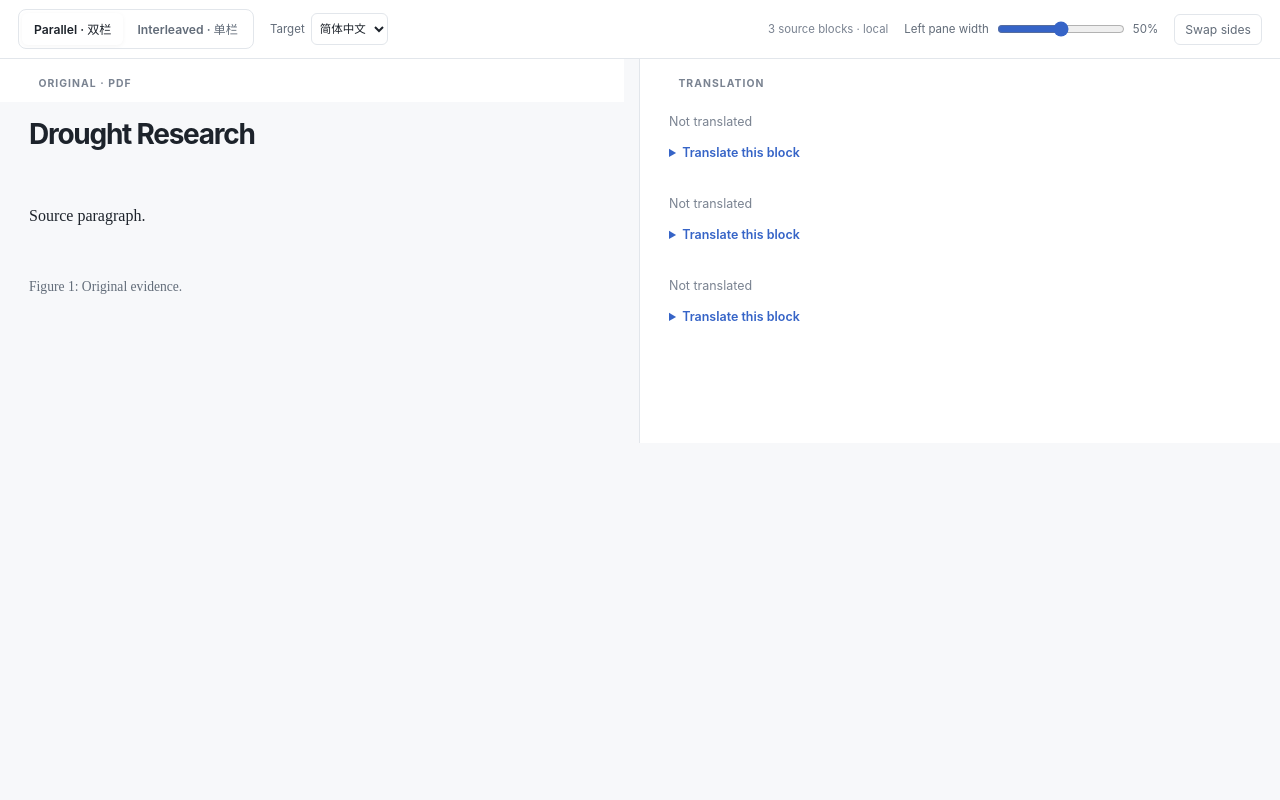
Test: reports translation failure and cancellation without inventing translated output
This screenshot has width=1280, height=800.
Click the 1st heading "Translate this block": click(741, 152) left=682, top=145, right=800, bottom=160
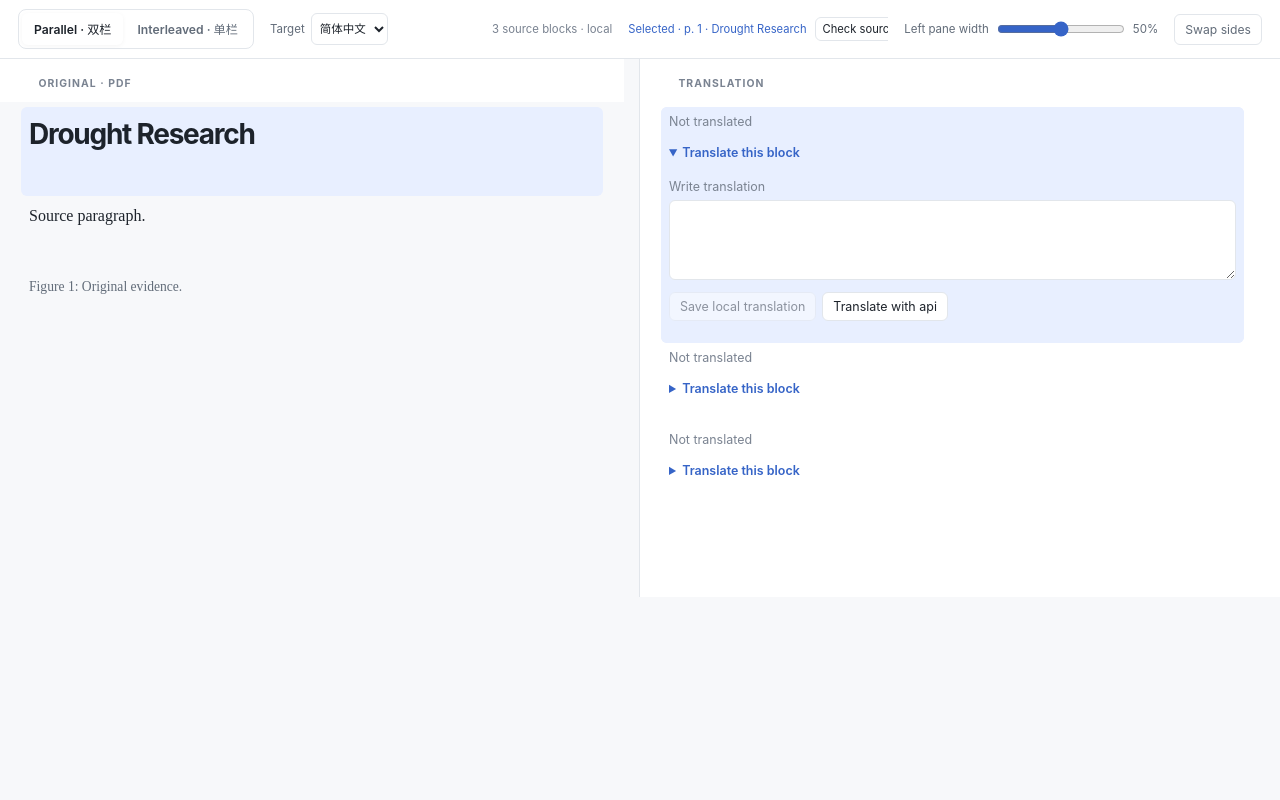
In the text box named "Local translation p1-b1": (952, 240) left=669, top=200, right=1236, bottom=280, type "Local"
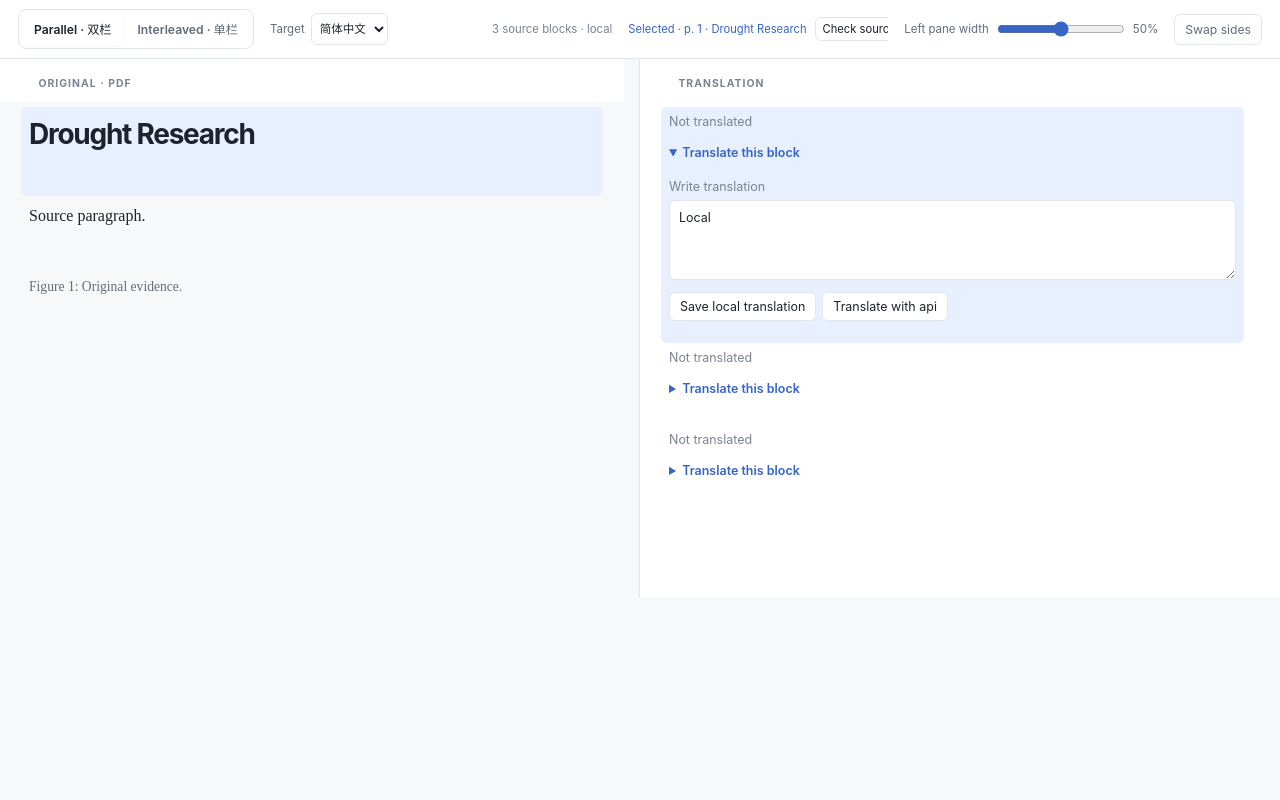
Click the button "Save local translation": click(743, 306) left=669, top=292, right=816, bottom=321
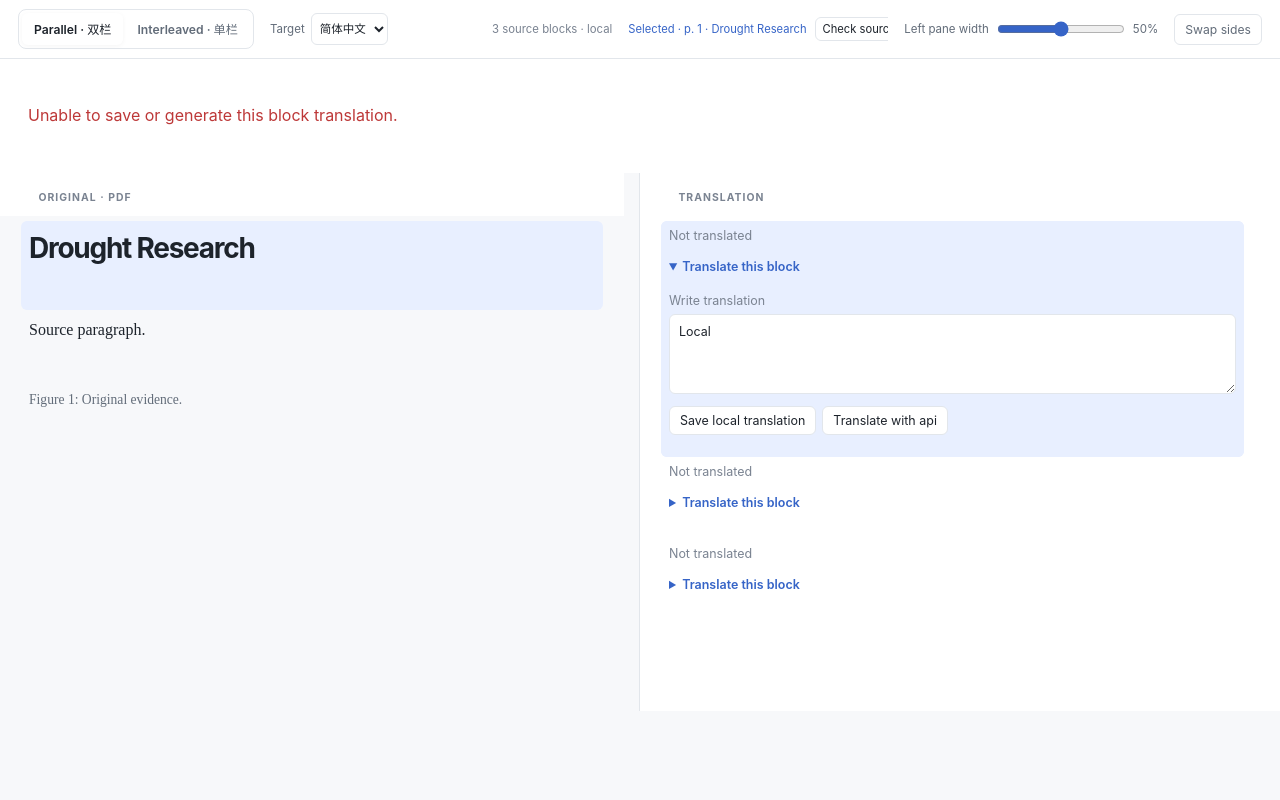
Check: the message "Unable to save or generate this block translation." is shown, box left=28, top=105, right=398, bottom=125
Click the button "Translate with api": click(885, 420) left=822, top=406, right=948, bottom=435
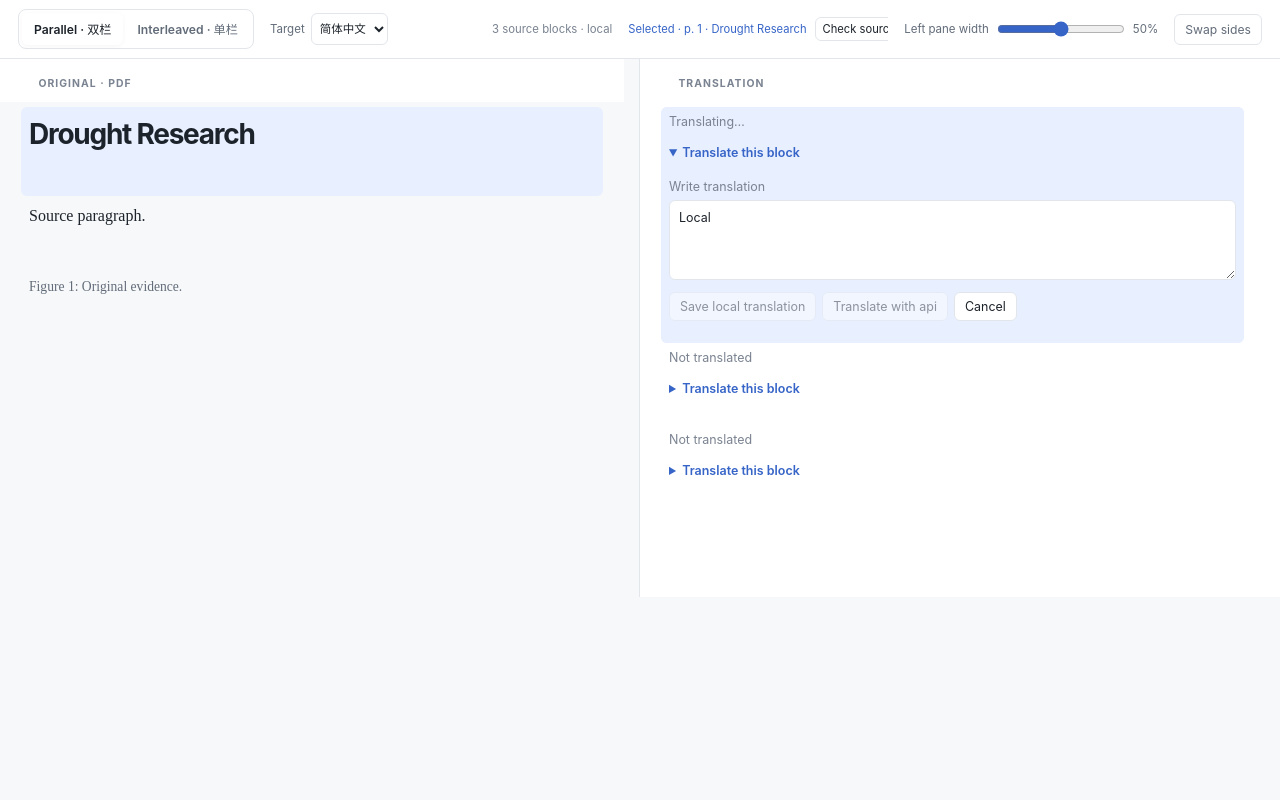
Check: the button "Cancel" is shown
Click the button "Cancel": click(985, 306) left=954, top=292, right=1017, bottom=321
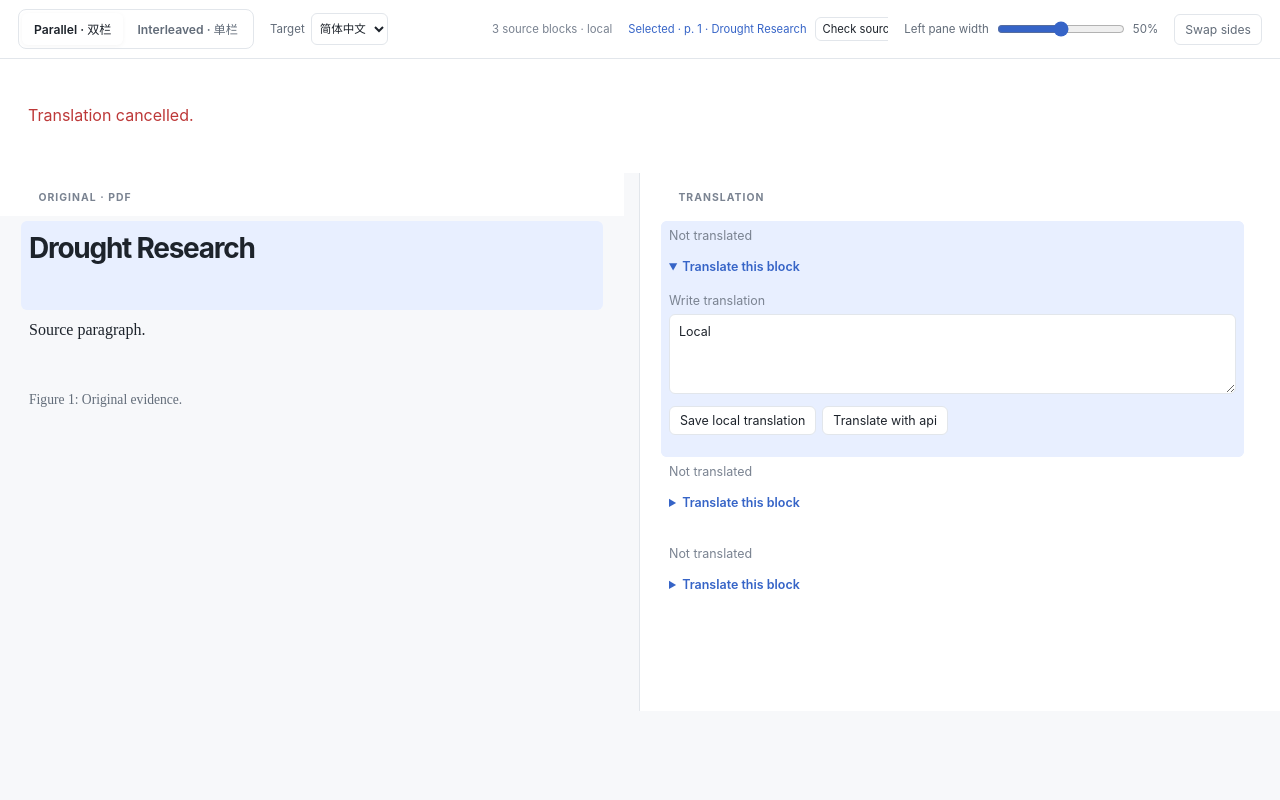
Check: the message "Translation cancelled." is shown, box left=28, top=105, right=194, bottom=125
